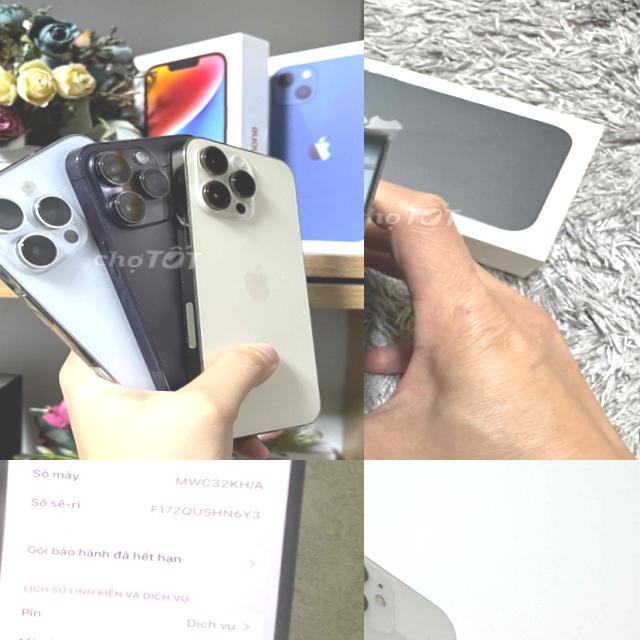gen_11: (0, 460, 324, 640)
gen_12_13: (364, 538, 499, 640), (364, 107, 403, 460)
gen_14: (155, 126, 340, 447)
